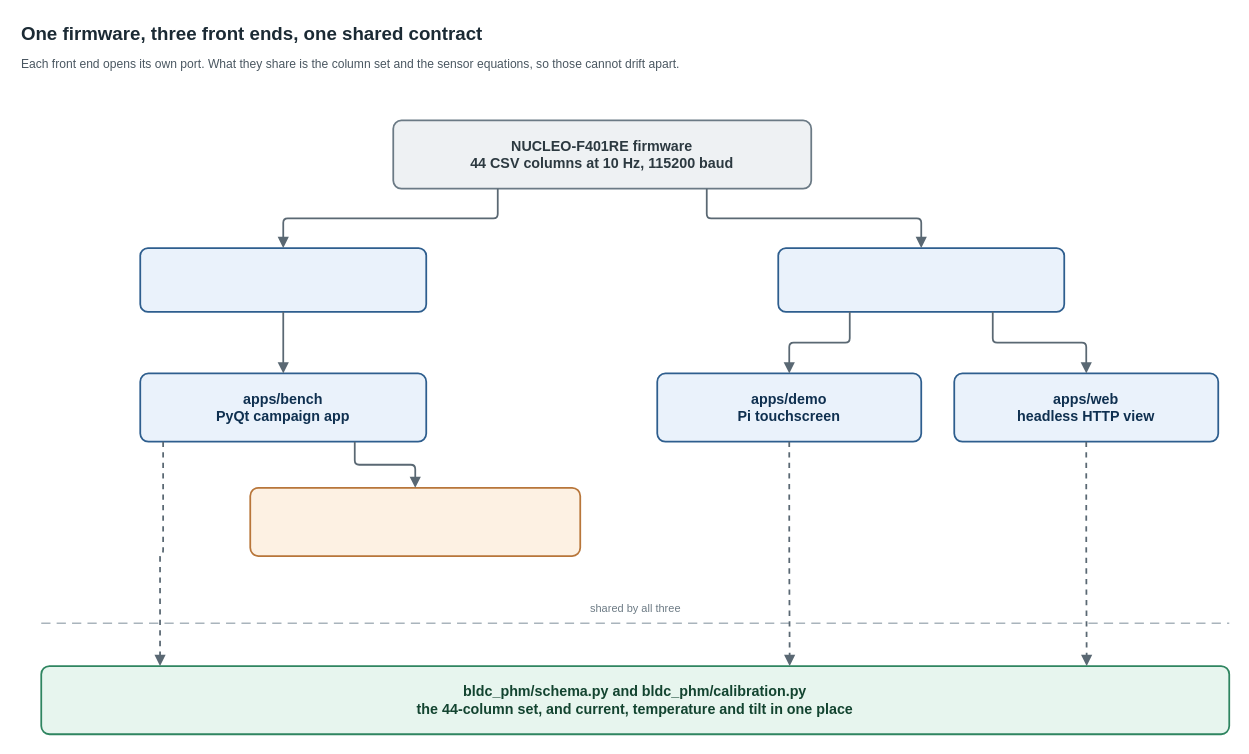
This 1249x754 diagram has some shape labels left out. Each missing label, with the box of its shape:
bench only sources.py, validator.py, session.py: (249, 486, 581, 556)
ST-LINK virtual COM port Windows bench: (139, 247, 427, 312)
UART on the 40-pin header Raspberry Pi: (777, 247, 1065, 312)
